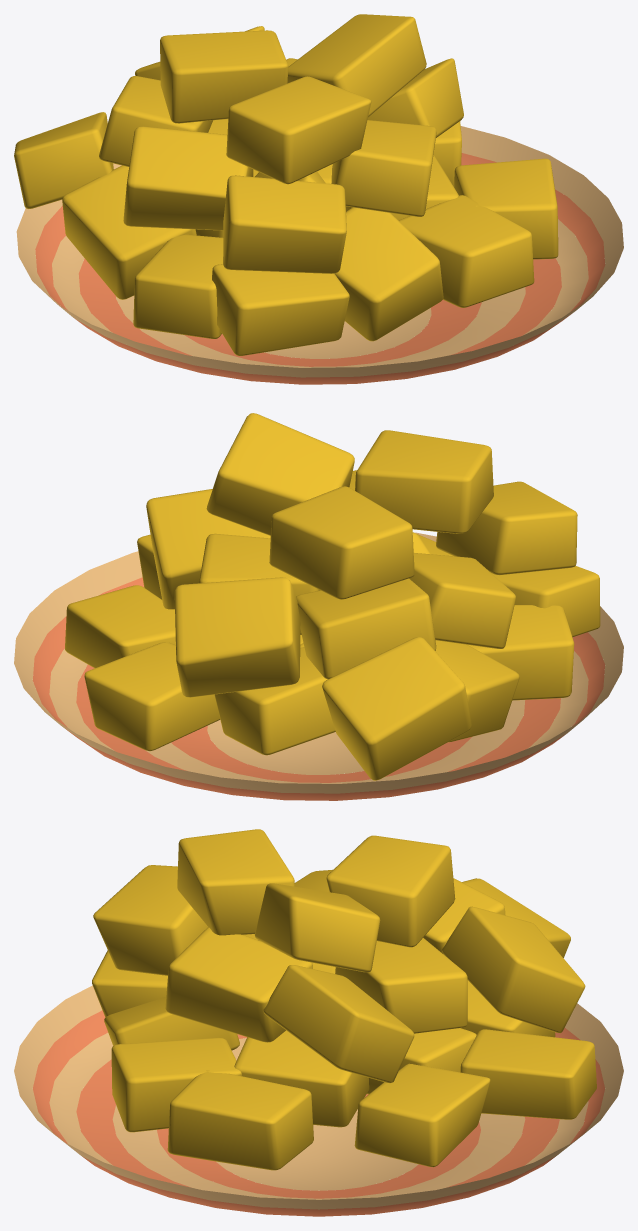
File: Tape.glb
3 renders of one model, top to bottom at view 1: azimuth 30°, elevation 25°; view 2: azimuth 150°, elevation 25°; view 3: azimuth 270°, elevation 25°, orthographic.
Parts seen in each view (by area): view 1: Plate Tape.001; view 2: Plate Tape.001; view 3: Plate Tape.001.
Boxes of the visible parts, box(x1,y1,x2,y2) form: Plate Tape.001: box(14, 14, 623, 384); Plate Tape.001: box(14, 413, 623, 800); Plate Tape.001: box(14, 829, 623, 1216).
Size of the model in its own units: 7.22 by 3.93 by 7.22.
